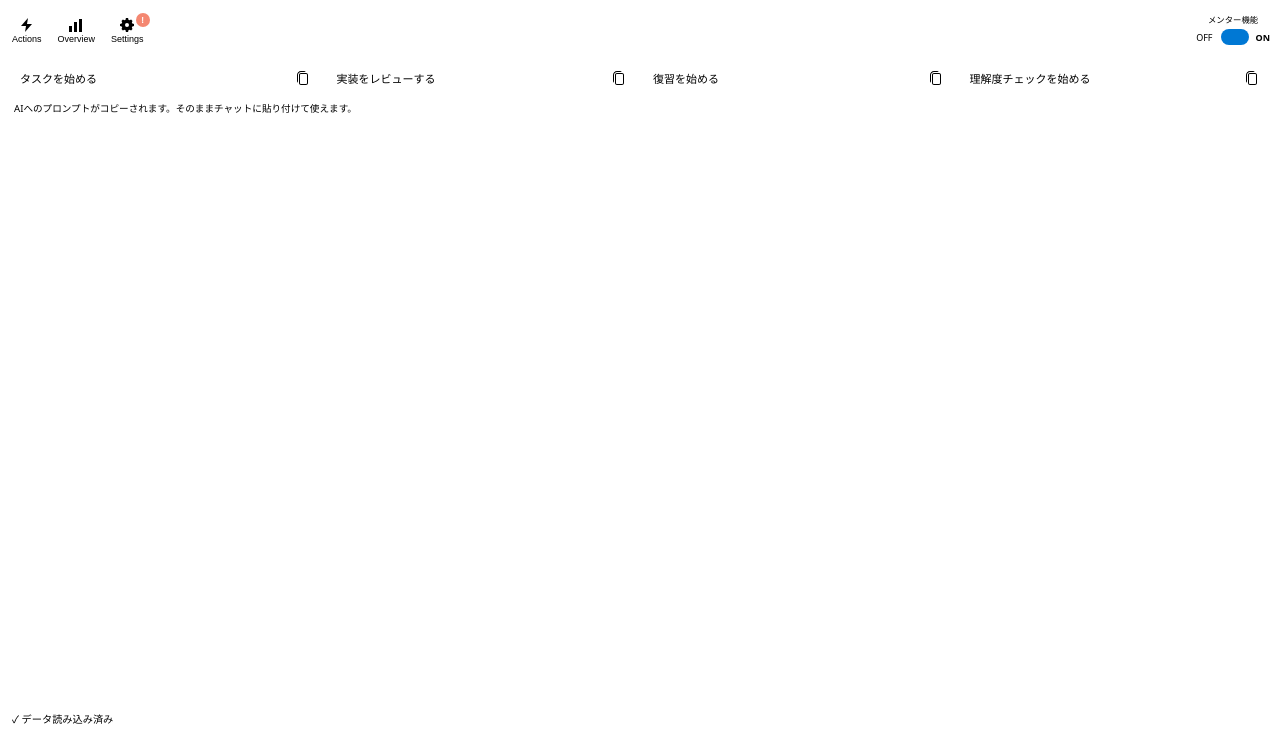
Scenario: App › switches to Overview tab
Click the tab "Overview".
click(76, 32)  # box x1=50 y1=12 x2=103 y2=52
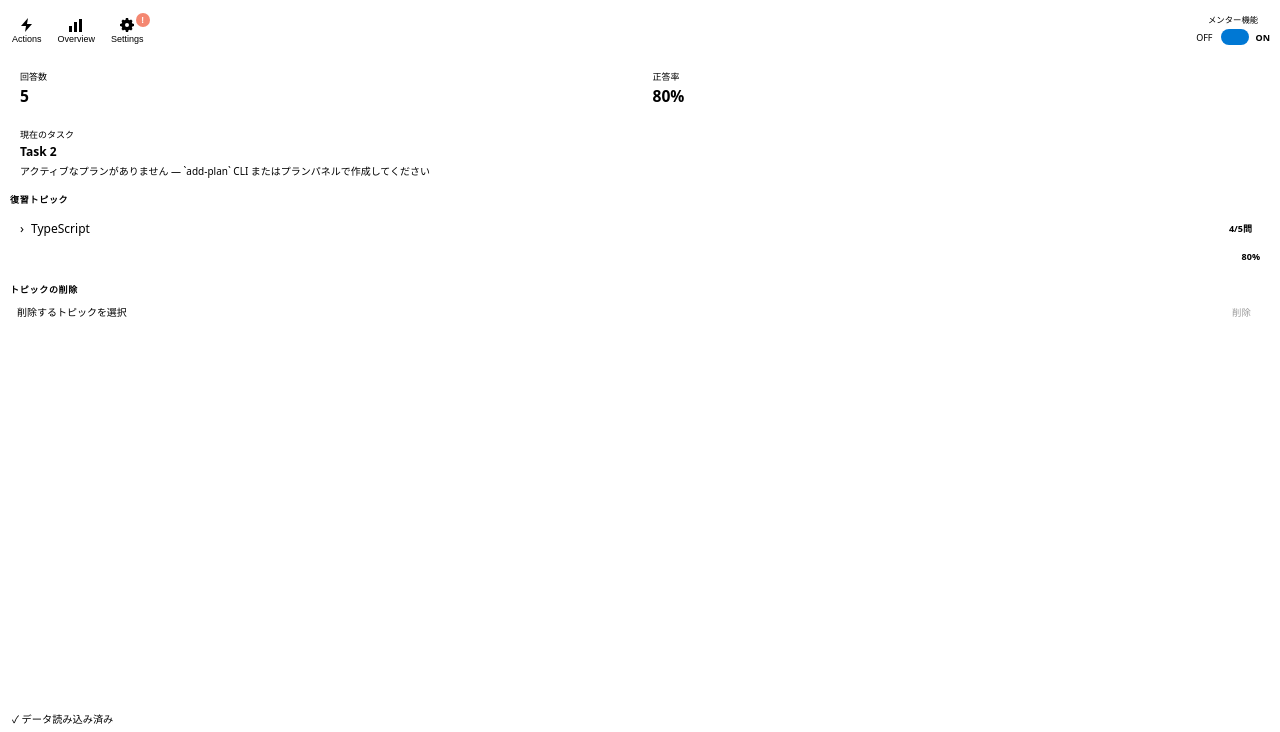
Check: the text "回答数" is shown, box x1=20 y1=70 x2=47 y2=83
Check: the text "5" is shown, box x1=20 y1=85 x2=29 y2=107
